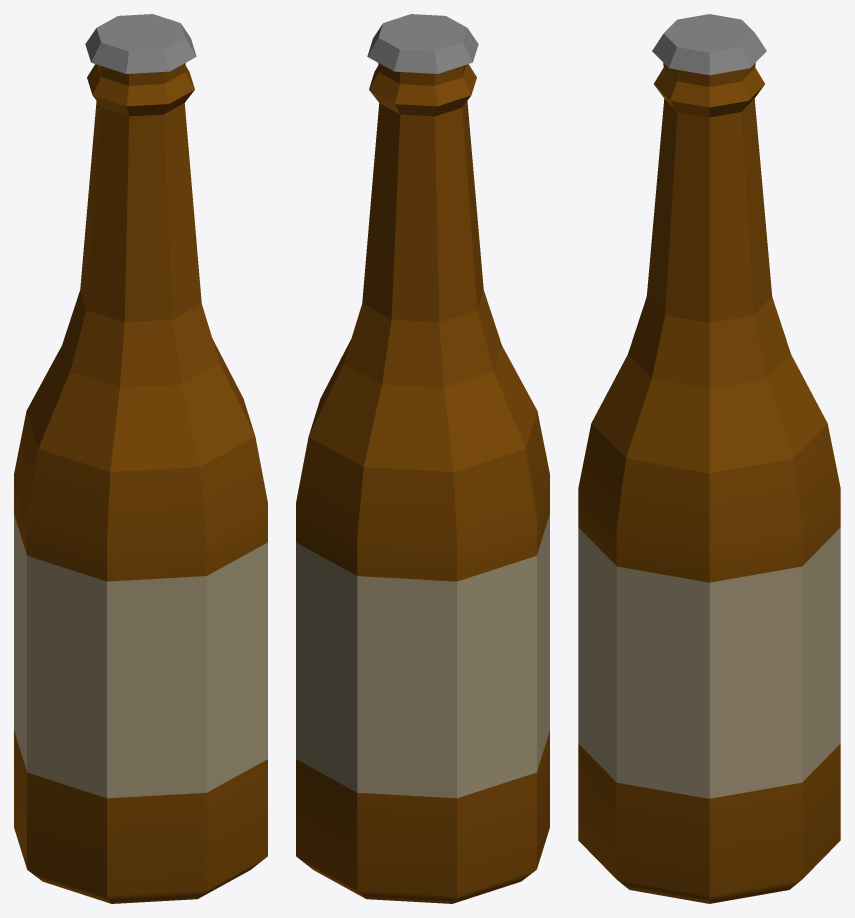
File: RedBote.fbx
3 renders of one model, left to right at view 1: azimuth 30°, elevation 25°; view 2: azimuth 150°, elevation 25°; view 3: azimuth 270°, elevation 25°, orthographic.
Parts seen in each view (by area): view 1: Glass_Bottle2; view 2: Glass_Bottle2; view 3: Glass_Bottle2.
Boxes of the visible parts, bbox=[...] form: Glass_Bottle2: bbox=[14, 14, 267, 903]; Glass_Bottle2: bbox=[296, 14, 549, 903]; Glass_Bottle2: bbox=[578, 14, 840, 903].
Bounding box in the file's own units: 0.8964 × 3.1 × 0.8964.
